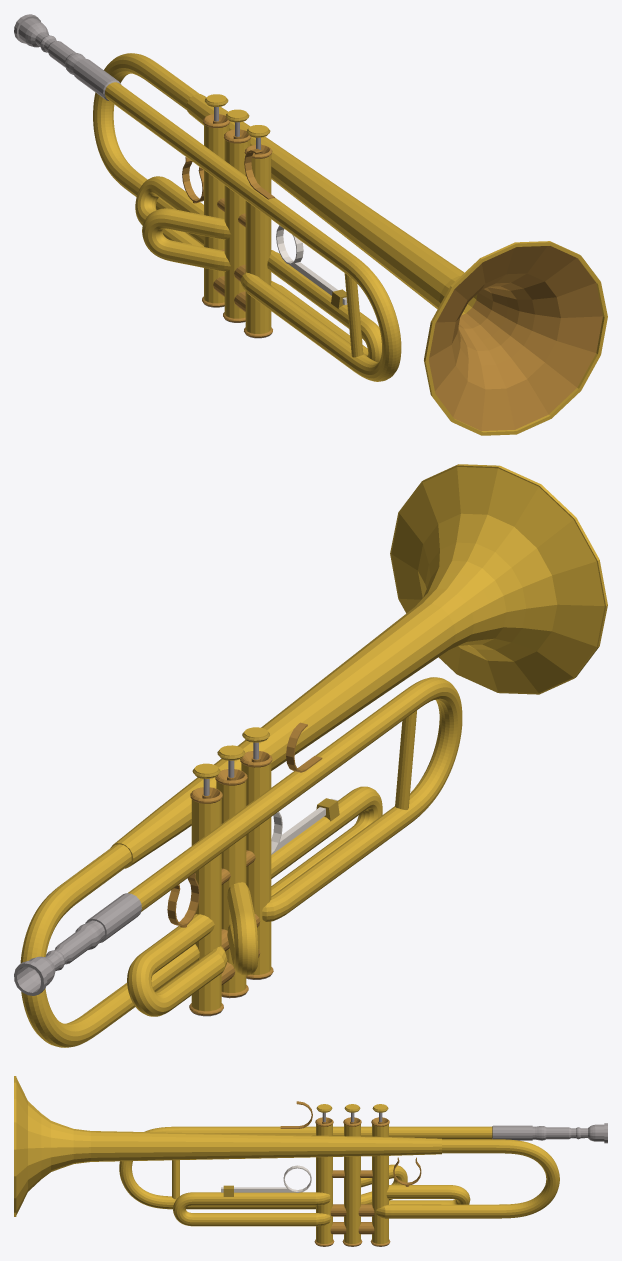
File: Trompete.fbx
The picture shows the model from 3 angles, top to bottom: view 1: azimuth 30°, elevation 25°; view 2: azimuth 150°, elevation 25°; view 3: azimuth 270°, elevation 25°; orthographic projection. The views are drawn at different scales.
Parts seen in each view (by area): view 1: Trompete; view 2: Trompete; view 3: Trompete.
Part boxes in pixels (<box>): Trompete: <box>14,14,607,435</box>; Trompete: <box>14,464,607,1047</box>; Trompete: <box>14,1076,607,1246</box>.
Bounding box in the file's own units: 17.01 × 22.5 × 71.66.
